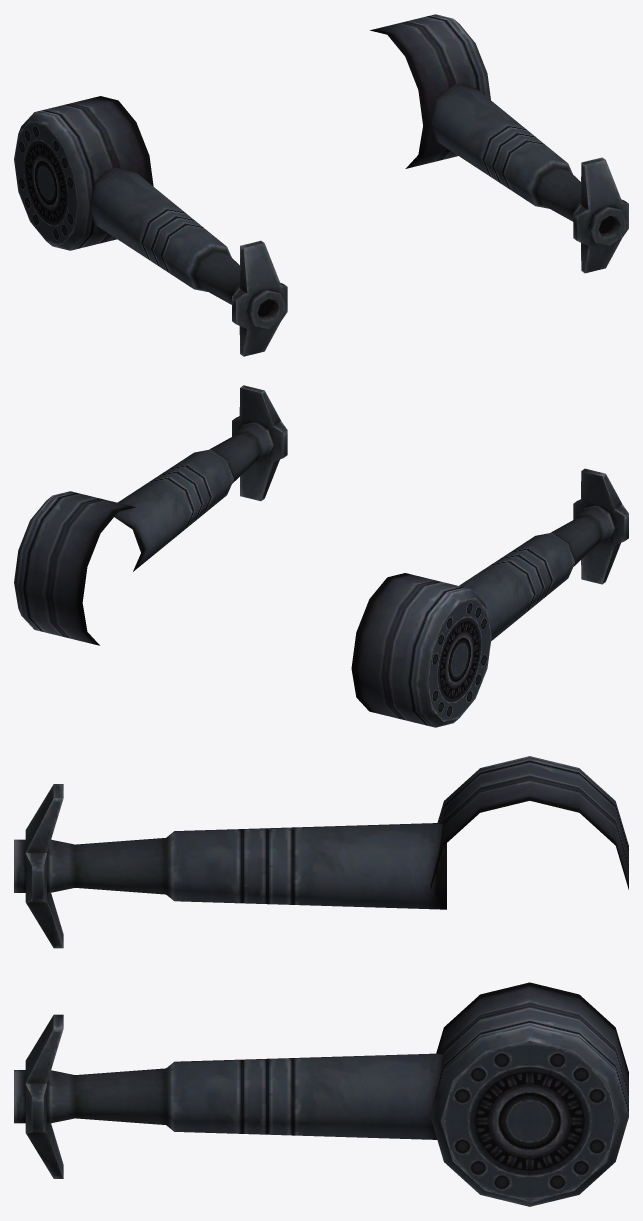
Rendered from all_wallset_imperial_containment_turretbarrel.glb.
The picture shows the model from 3 angles, top to bottom: view 1: azimuth 30°, elevation 25°; view 2: azimuth 150°, elevation 25°; view 3: azimuth 270°, elevation 25°; orthographic projection. The views are drawn at different scales.
Parts seen in each view (by area): view 1: all_wallset_imperial_containment_turretbarrel; view 2: all_wallset_imperial_containment_turretbarrel; view 3: all_wallset_imperial_containment_turretbarrel.
Part boxes in pixels (x1,y1,x2,y2): all_wallset_imperial_containment_turretbarrel: (14,14,628,356); all_wallset_imperial_containment_turretbarrel: (14,385,628,727); all_wallset_imperial_containment_turretbarrel: (14,756,628,1206).
Size of the model in its own units: 0.4 by 0.12 by 0.372.
Materials: 1 (1 with a texture image).
